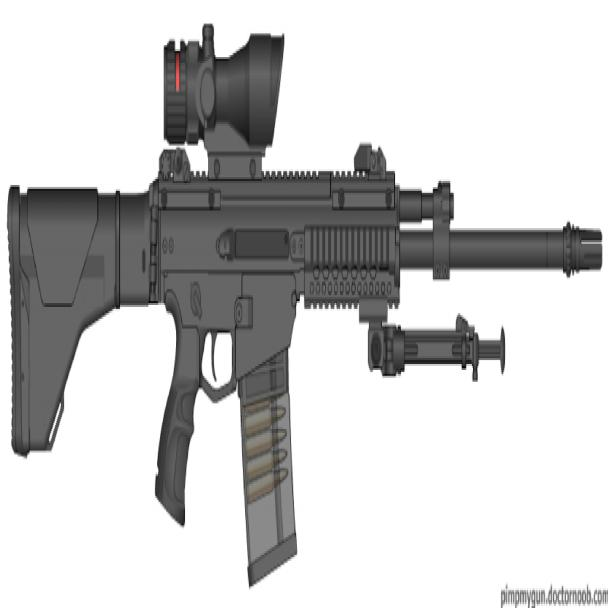Gun: (1, 9, 607, 587)
